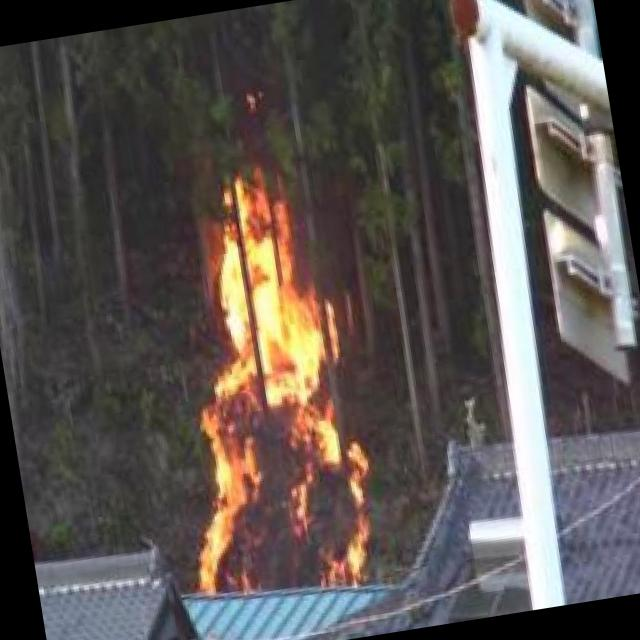Fire: (151, 142, 379, 600)
